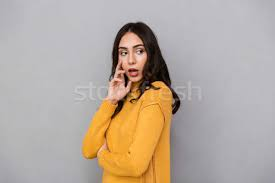white_female: (113, 36, 164, 91)
